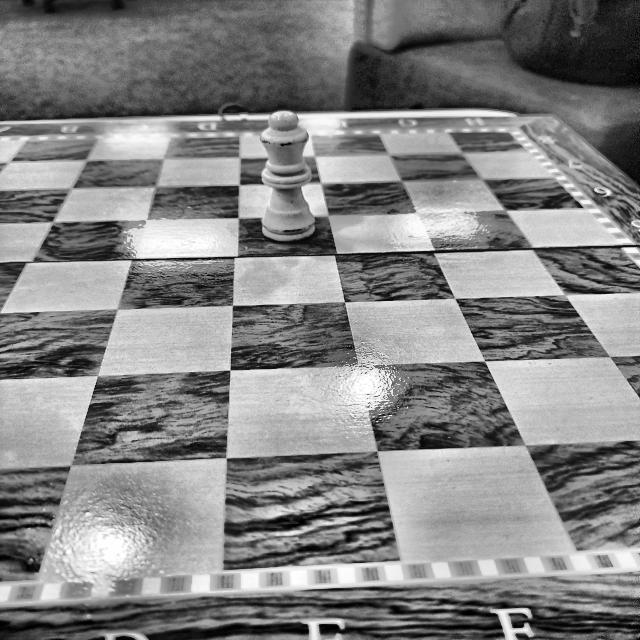white-queen: (259, 111, 315, 241)
